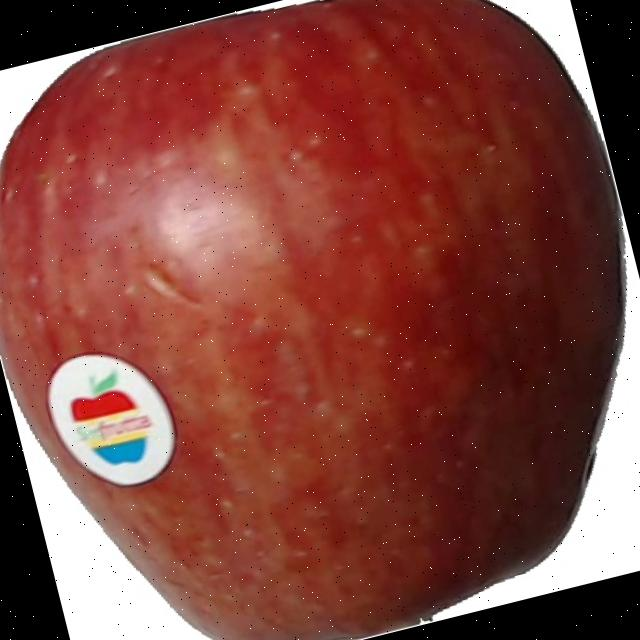apple: (0, 0, 629, 640)
